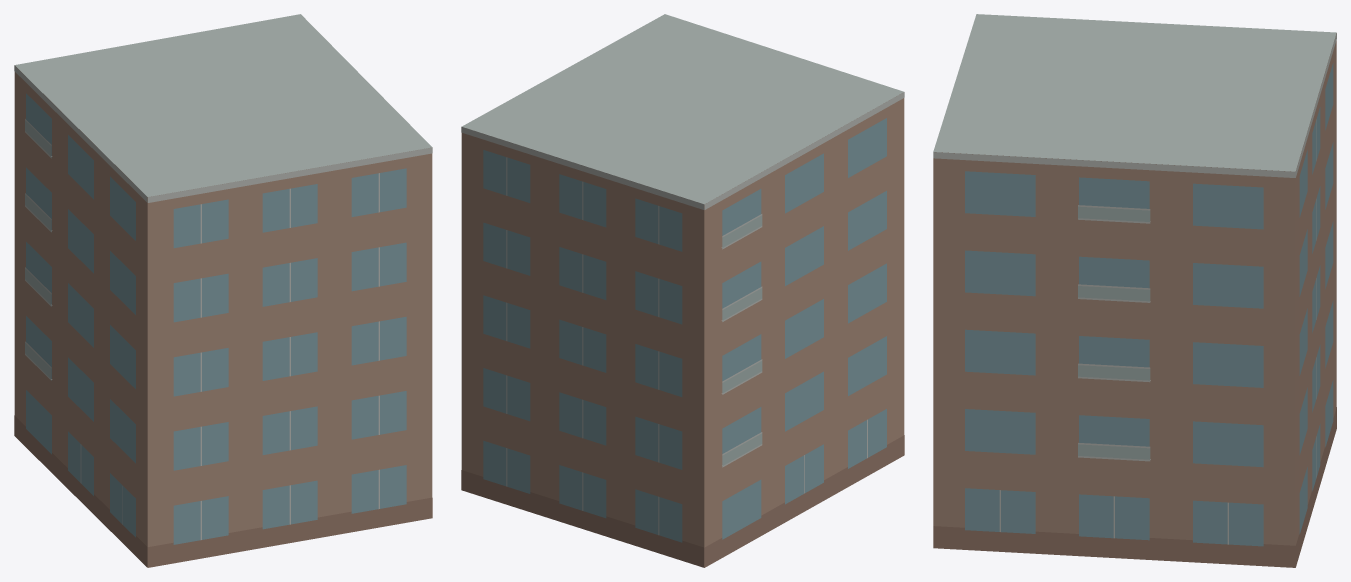
File: survey-upis-32809000.glb
The picture shows the model from 3 angles, left to right: view 1: azimuth 30°, elevation 25°; view 2: azimuth 150°, elevation 25°; view 3: azimuth 270°, elevation 25°; orthographic projection. The views are drawn at different scales.
Visible parts, largest first — view 1: survey-upis-32809000.tmp; view 2: survey-upis-32809000.tmp; view 3: survey-upis-32809000.tmp.
Part boxes in pixels (x1=…): survey-upis-32809000.tmp: x1=14, y1=14, x2=432, y2=567; survey-upis-32809000.tmp: x1=461, y1=14, x2=904, y2=567; survey-upis-32809000.tmp: x1=933, y1=14, x2=1336, y2=567.
Size of the model in its own units: 12.79 by 14.97 by 13.83.
